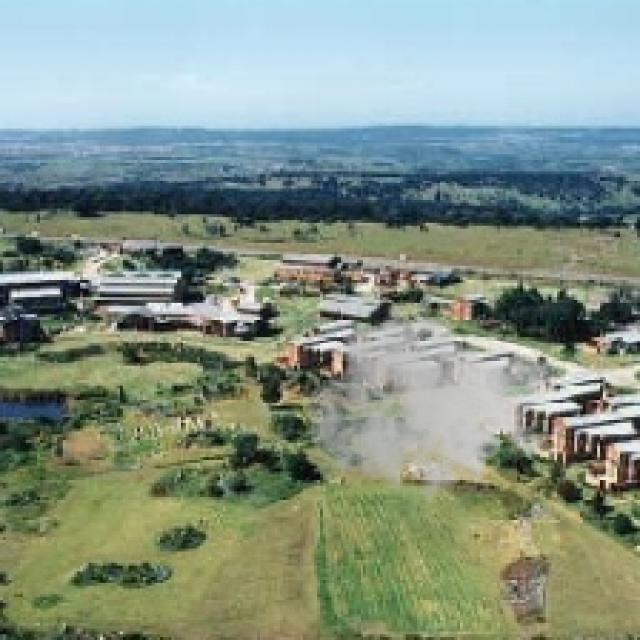Smoke: (306, 300, 560, 514)
